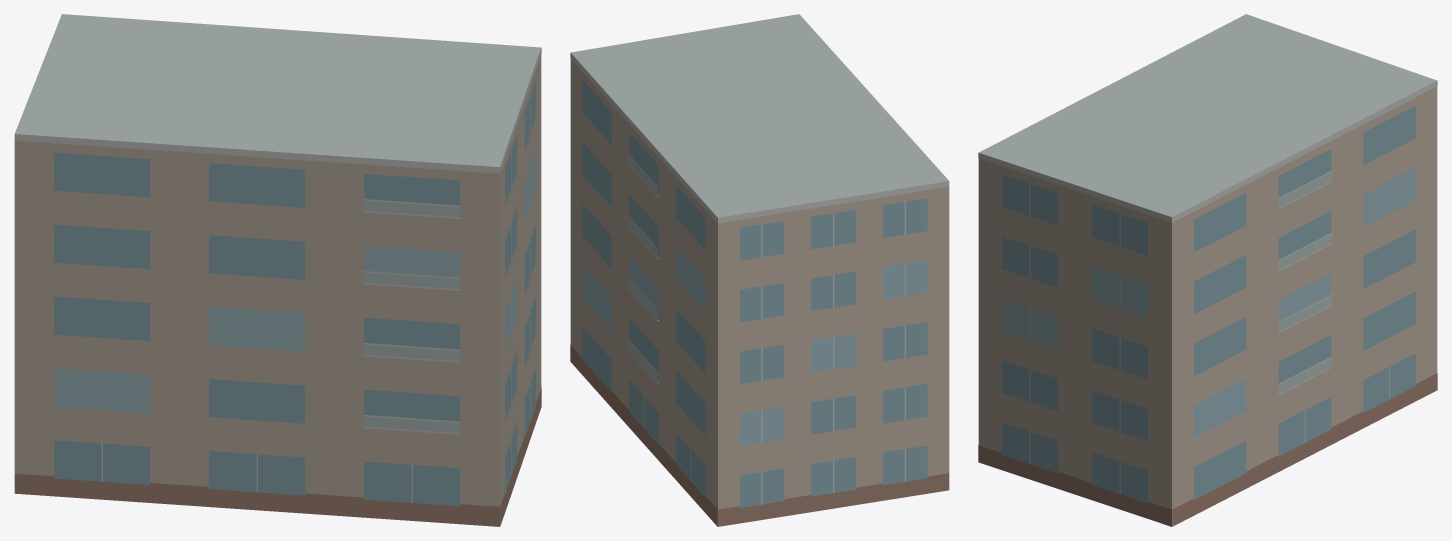
File: survey-upis-32956957.glb
The picture shows the model from 3 angles, left to right: view 1: azimuth 30°, elevation 25°; view 2: azimuth 150°, elevation 25°; view 3: azimuth 270°, elevation 25°; orthographic projection. The views are drawn at different scales.
Visible parts, largest first — view 1: survey-upis-32956957.tmp; view 2: survey-upis-32956957.tmp; view 3: survey-upis-32956957.tmp.
Boxes of the visible parts, x1,y1,x2,y2 form: survey-upis-32956957.tmp: (14, 14, 541, 526); survey-upis-32956957.tmp: (570, 14, 949, 526); survey-upis-32956957.tmp: (978, 14, 1437, 526).
Size of the model in its own units: 18.87 by 13.4 by 18.01.
